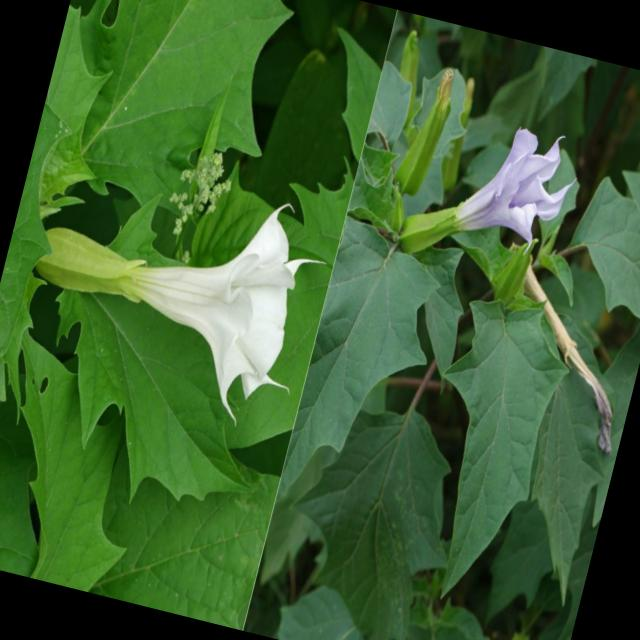Poisonous-Datura_Stramonium: (245, 269, 640, 640), (4, 143, 338, 438), (376, 88, 606, 334), (65, 0, 319, 201)
